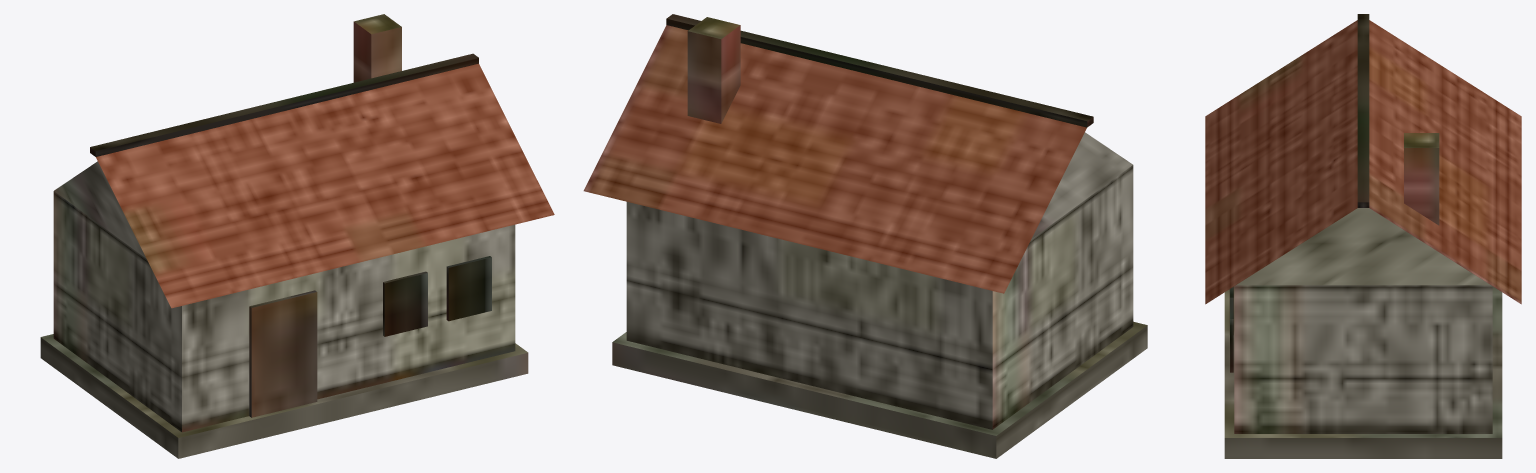
Rendered from starfort_guardhouse_far.glb.
3 renders of one model, left to right at view 1: azimuth 30°, elevation 25°; view 2: azimuth 150°, elevation 25°; view 3: azimuth 270°, elevation 25°, orthographic. The views are drawn at different scales.
Visible parts, largest first — view 1: intact, door; view 2: intact; view 3: intact.
Boxes of the visible parts, x1,y1,x2,y2 form: intact: [40, 14, 554, 458]; door: [249, 290, 317, 417]; intact: [583, 14, 1147, 458]; intact: [1205, 14, 1521, 458].
Size of what is drawn, in the model's own units: 6.9 by 5 by 4.9.
1 material, 1 textured.
